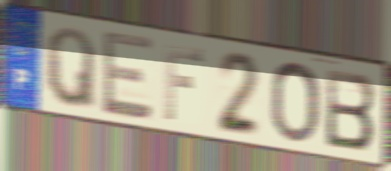2: (215, 51, 264, 139)
B: (324, 65, 378, 153)
E: (100, 27, 155, 123)
F: (162, 42, 206, 123)
O: (269, 60, 322, 145)
Q: (43, 25, 98, 114)
